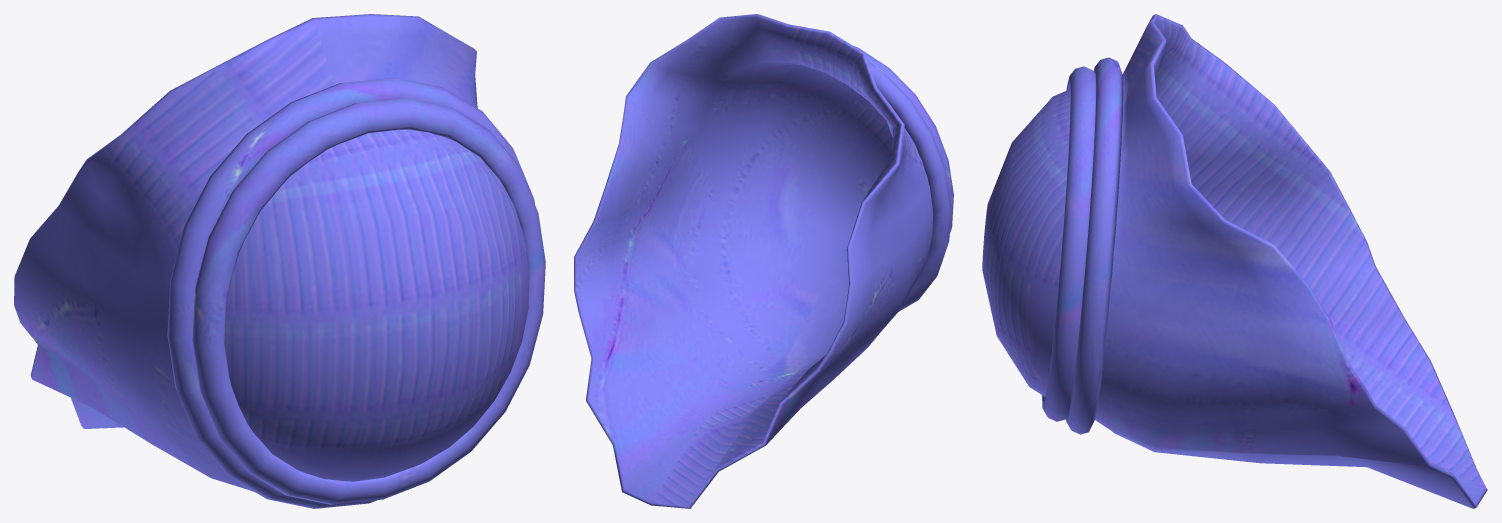
The model's file is Headwear46.glb.
3 renders of one model, left to right at view 1: azimuth 30°, elevation 25°; view 2: azimuth 150°, elevation 25°; view 3: azimuth 270°, elevation 25°, orthographic. The views are drawn at different scales.
Visible parts, largest first — view 1: Headwear46; view 2: Headwear46; view 3: Headwear46.
Part boxes in pixels (x1,y1,x2,y2): Headwear46: (14, 14, 545, 508); Headwear46: (574, 14, 953, 508); Headwear46: (982, 14, 1487, 508).
Bounding box in the file's own units: 2.04 × 2.72 × 2.76.
1 material, 1 textured.
